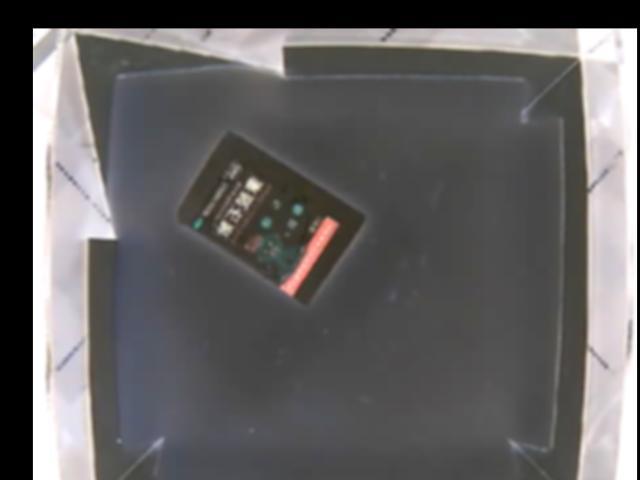Medicine: (174, 130, 366, 305)
